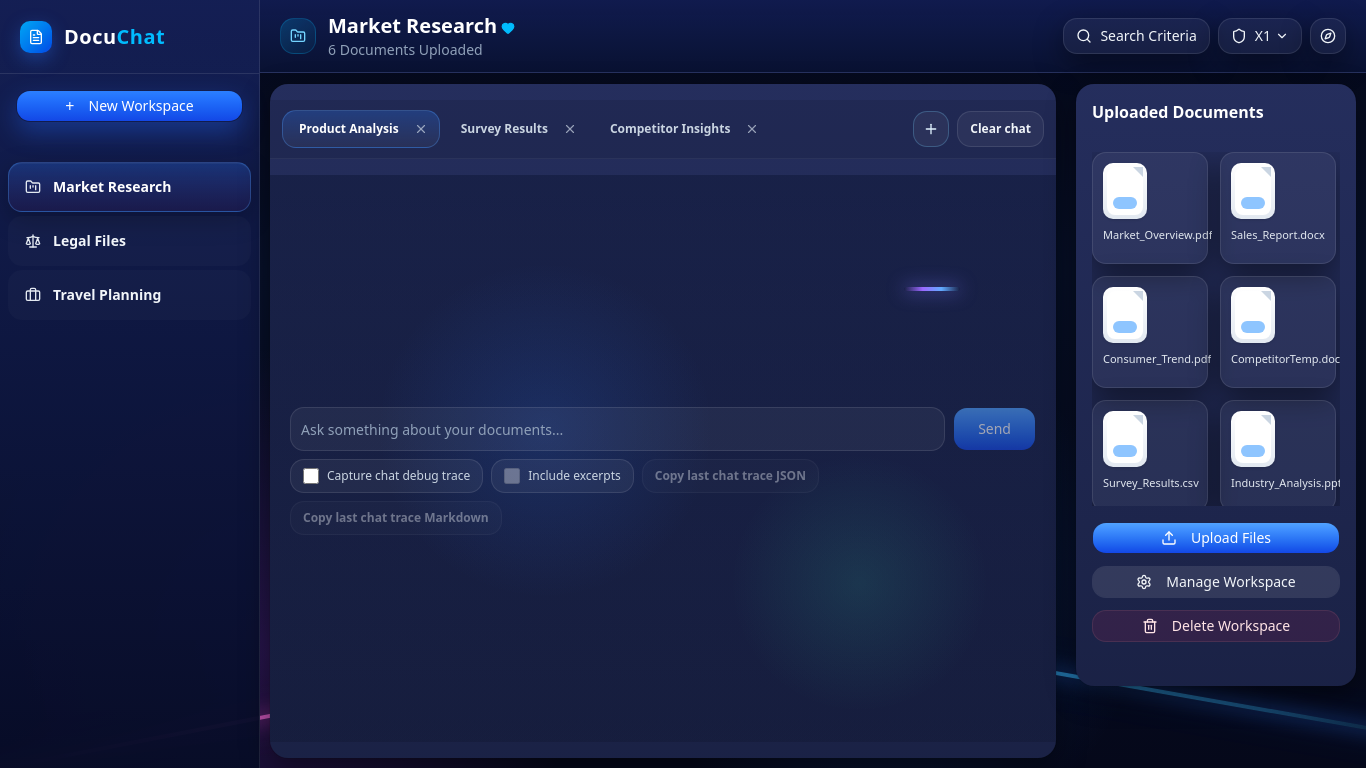
App › changes a workspace icon from the header icon peaker
Click the button named "Change icon for Market Research": (298, 36) top-left (280, 18), bottom-right (316, 54)
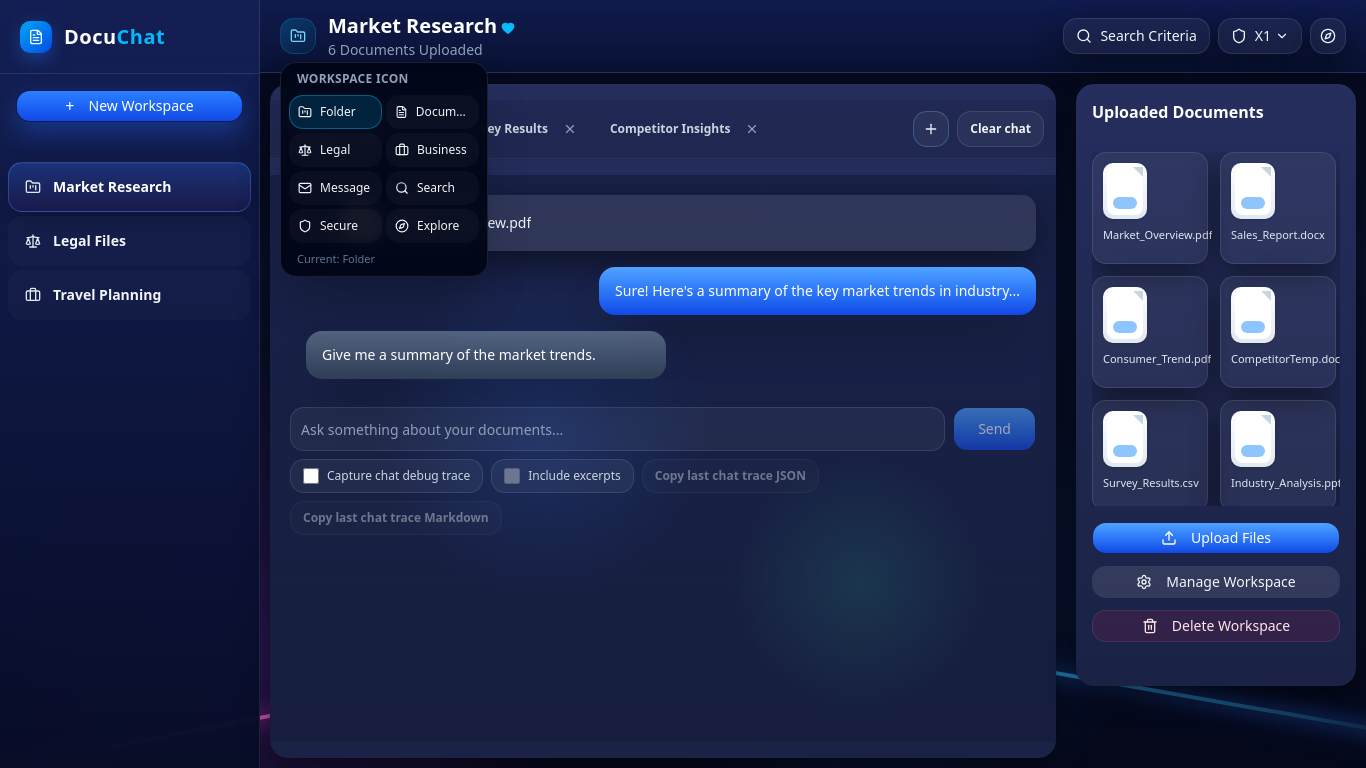
Click the button with aria-label "Use Legal icon": (336, 150) top-left (289, 133), bottom-right (382, 167)
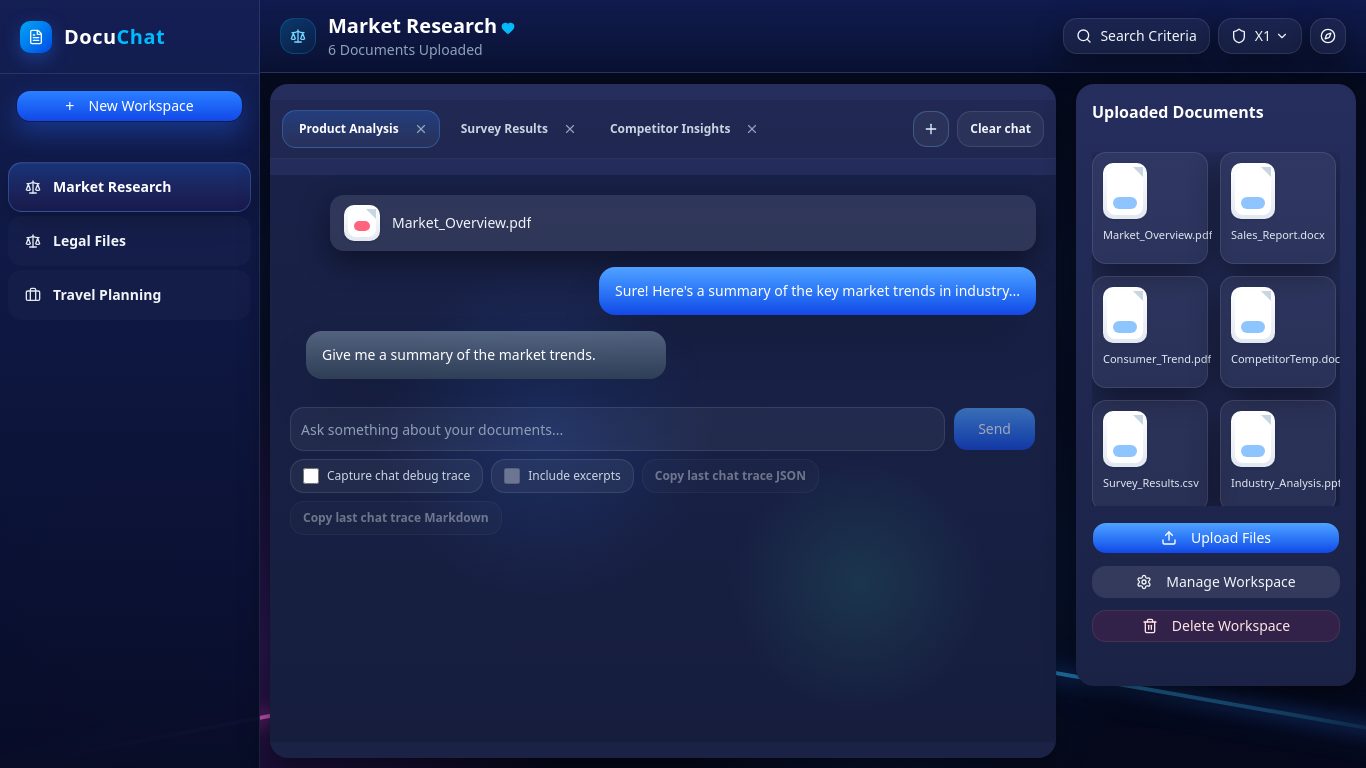
expect the button named "Change icon for Market Research" is collapsed: met, box top-left (280, 18), bottom-right (316, 54)
